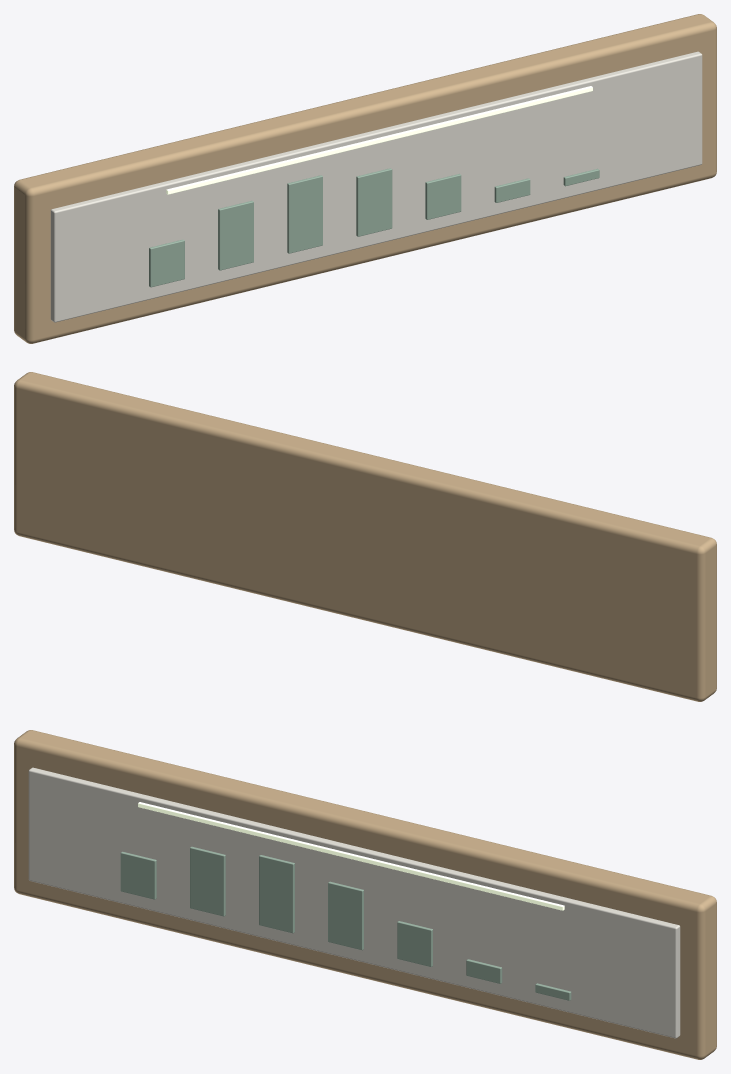
The model's file is hearing-aid-and-audiology-clinic-illuminated-clinic-na-435930de__31766.glb.
3 renders of one model, top to bottom at view 1: azimuth 30°, elevation 25°; view 2: azimuth 150°, elevation 25°; view 3: azimuth 330°, elevation 25°, orthographic.
Parts seen in each view (by area): view 1: illuminated-clinic-name-board; view 2: illuminated-clinic-name-board; view 3: illuminated-clinic-name-board.
Part boxes in pixels (x1,y1,x2,y2): illuminated-clinic-name-board: [14, 14, 716, 343]; illuminated-clinic-name-board: [14, 372, 716, 701]; illuminated-clinic-name-board: [14, 730, 716, 1059].
Size of the model in its own units: 1.3 by 0.2799 by 0.0765.
